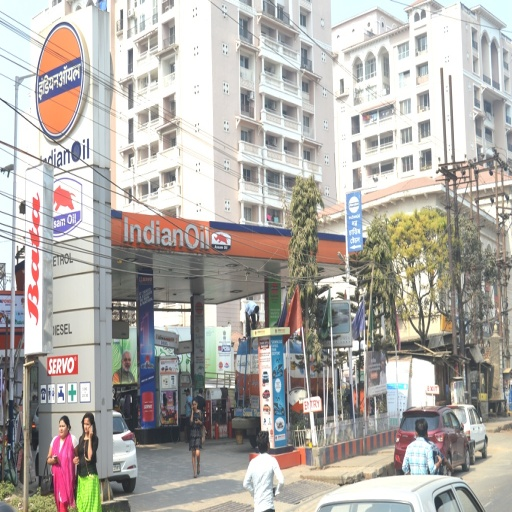roof: (113, 209, 362, 303)
